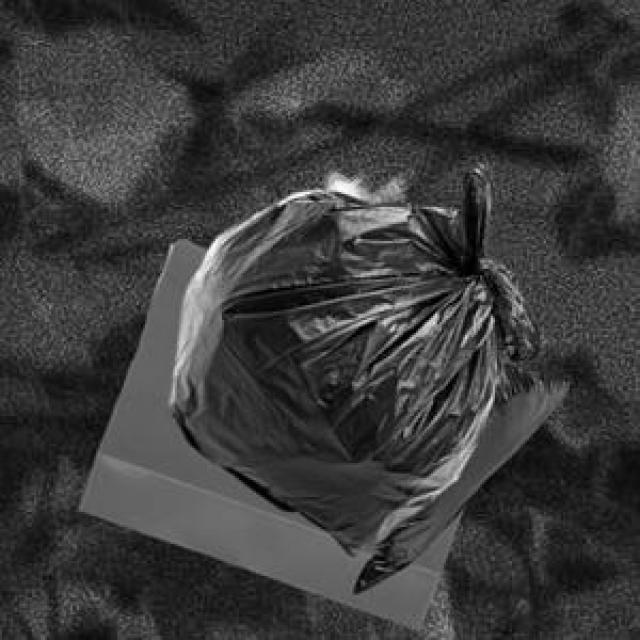miscellaneous trash: (166, 160, 542, 550), (350, 357, 564, 589)
paper: (75, 235, 456, 627)
